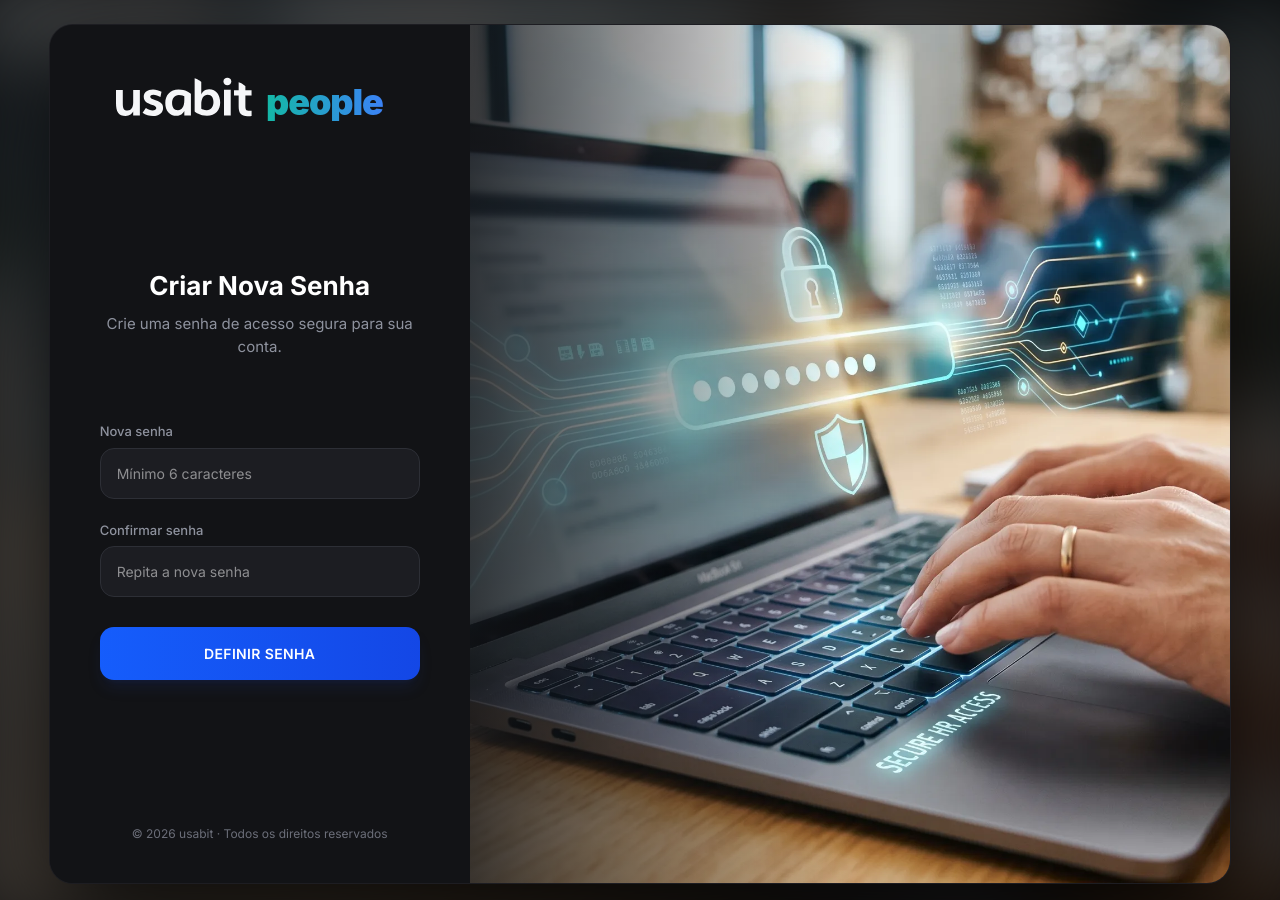
Test case: SetPassword › rejeita senhas que não conferem
The width and height of the screenshot is (1280, 900).
expect the heading "Criar Nova Senha" is shown: met, box [149, 270, 370, 301]
Step 1. Type "123456" into the password field with placeholder "Mínimo 6 caracteres" → (260, 473), box [100, 448, 420, 498]
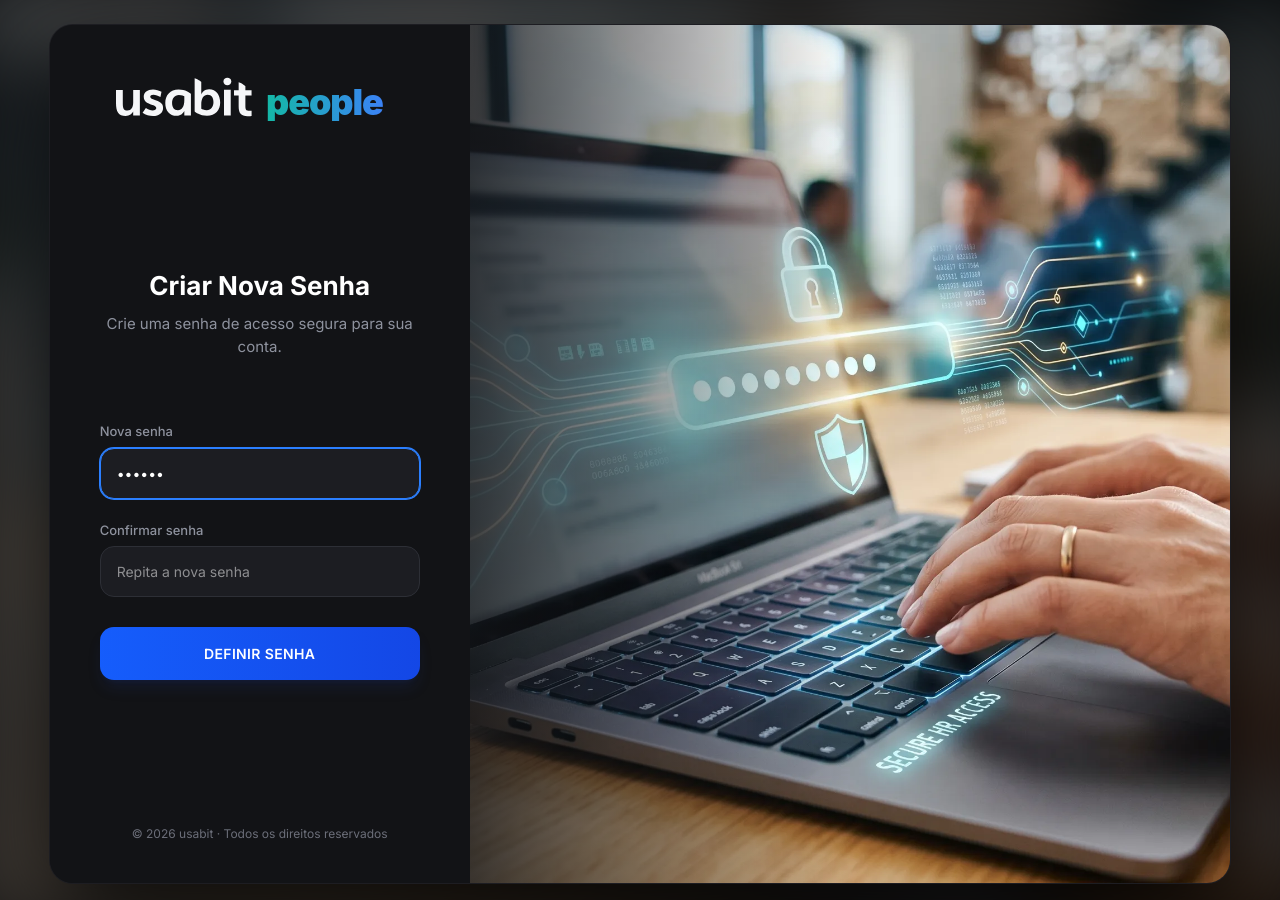
Step 2. Type "654321" into the password field with placeholder "Repita a nova senha" → (260, 572), box [100, 546, 420, 597]
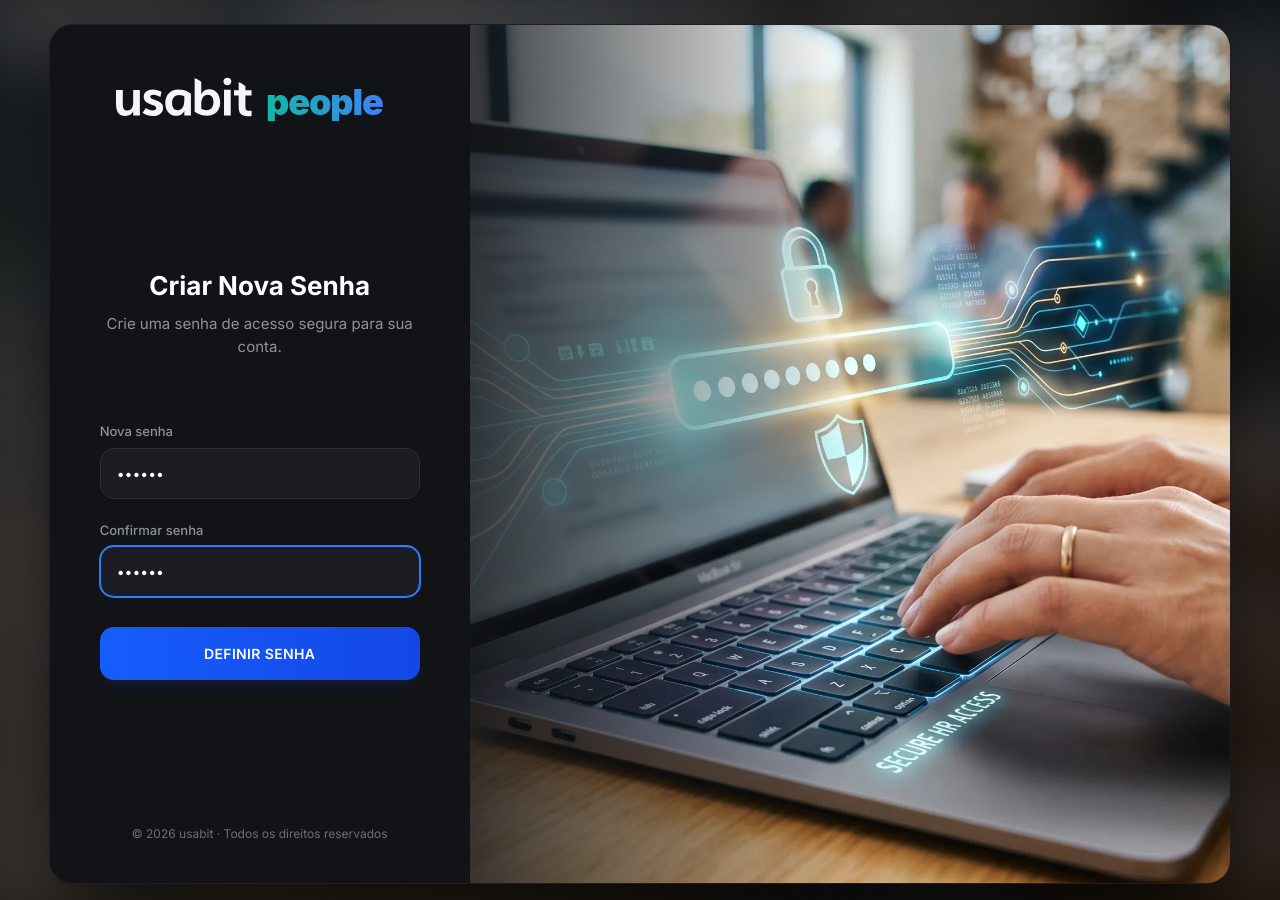
Step 3. Click the button "DEFINIR SENHA" → (260, 654), box [100, 627, 420, 680]
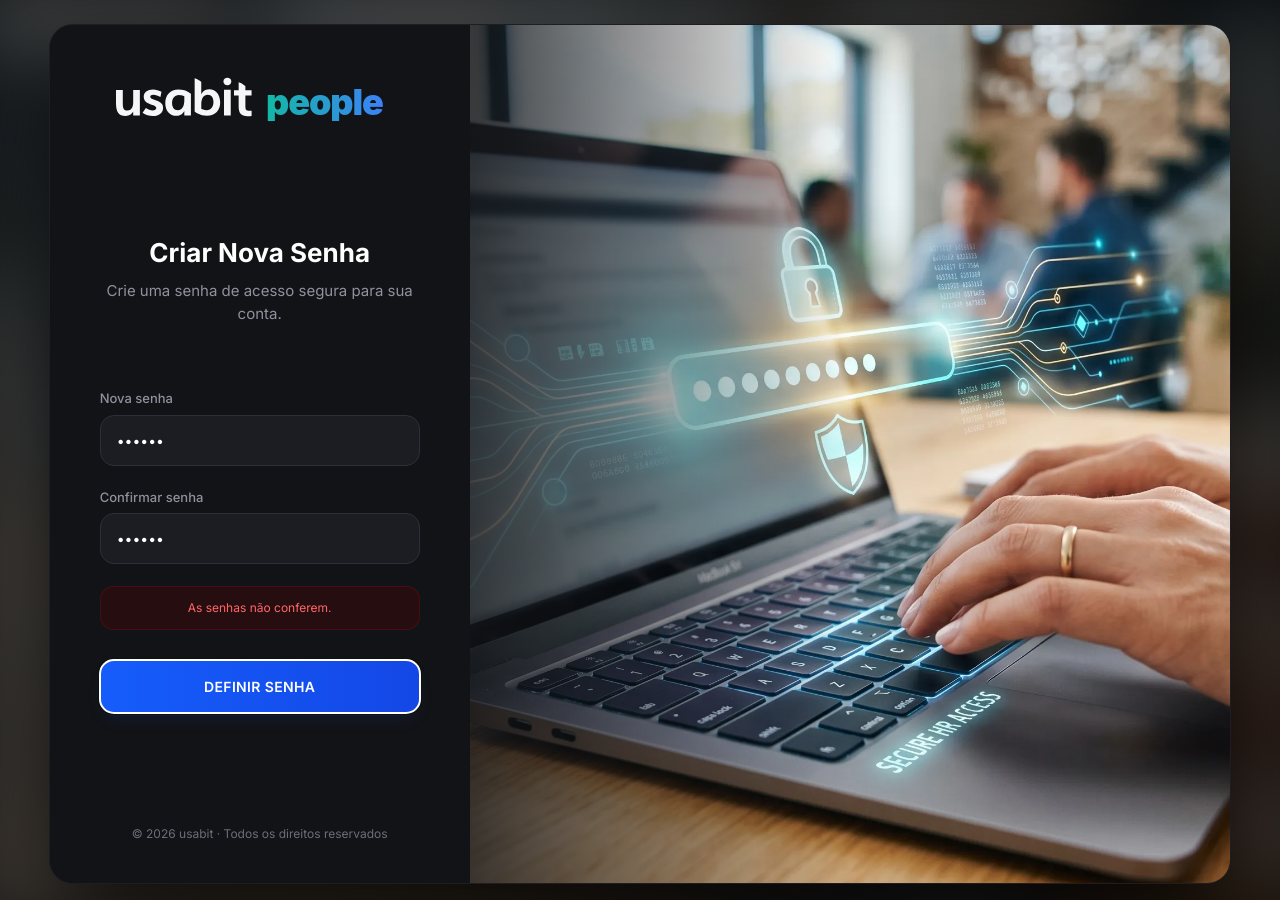
expect the text "As senhas não conferem." is shown: met, box [100, 586, 420, 630]
